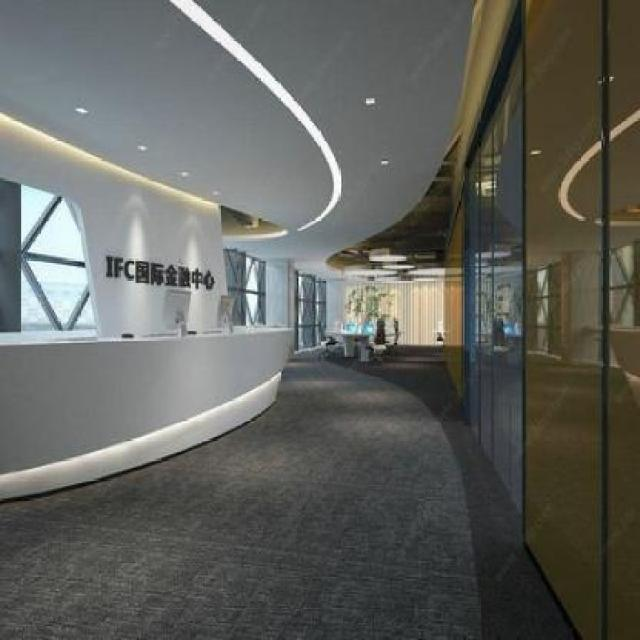frontdesk: (3, 312, 299, 504)
